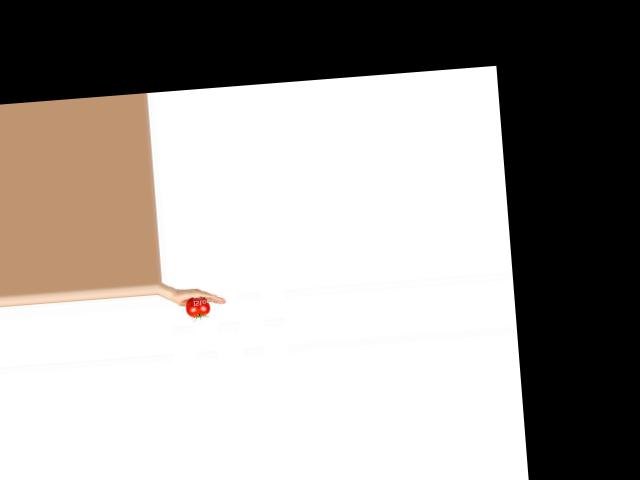tomato: (185, 296, 210, 318)
